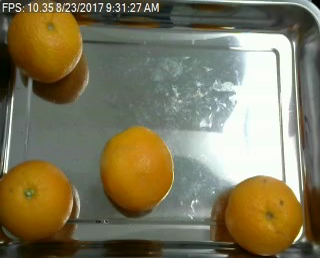Orange: (101, 124, 174, 214), (223, 174, 304, 255), (2, 160, 74, 242), (7, 13, 83, 82)
